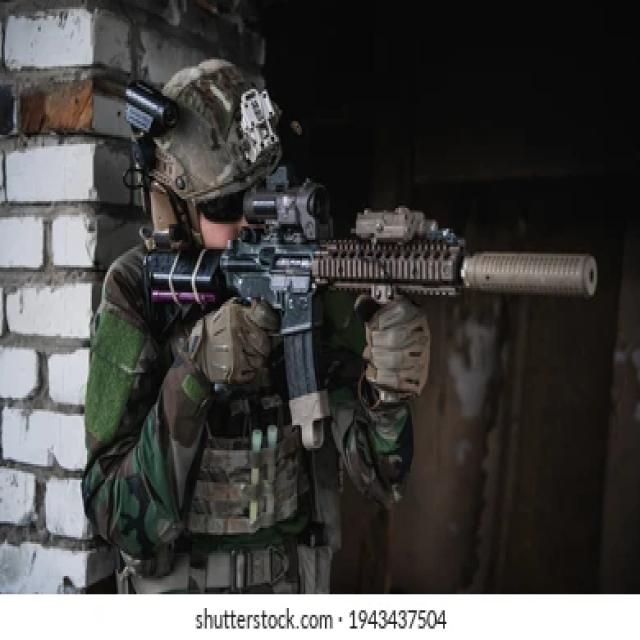soldier: (82, 56, 598, 595)
